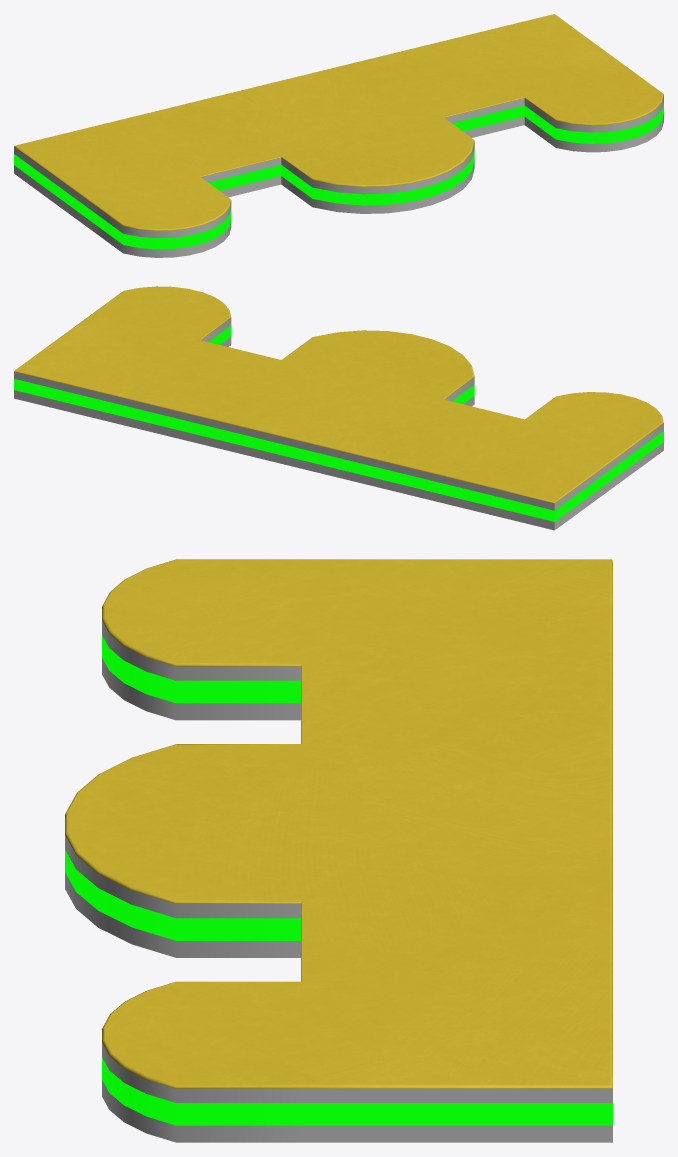
Rendered from MoonStage.fbx.
The picture shows the model from 3 angles, top to bottom: view 1: azimuth 30°, elevation 25°; view 2: azimuth 150°, elevation 25°; view 3: azimuth 270°, elevation 25°; orthographic projection. The views are drawn at different scales.
Parts seen in each view (by area): view 1: MoonStage; view 2: MoonStage; view 3: MoonStage.
Boxes of the visible parts, box(x1,y1,x2,y2) form: MoonStage: box(14, 14, 663, 257); MoonStage: box(14, 286, 663, 530); MoonStage: box(65, 559, 612, 1142).
Bounding box in the file's own units: 20 × 8.78 × 1.
